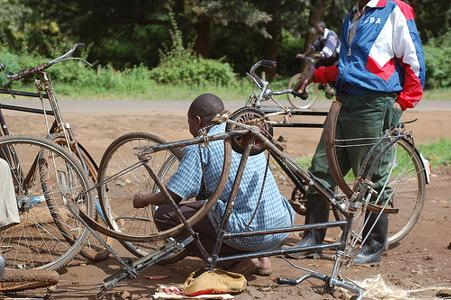person: (130, 93, 296, 280)
